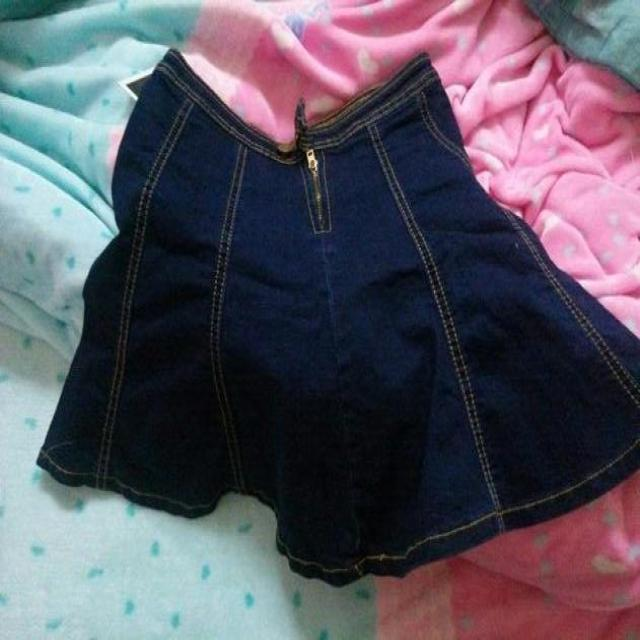skirt: (38, 49, 639, 576)
